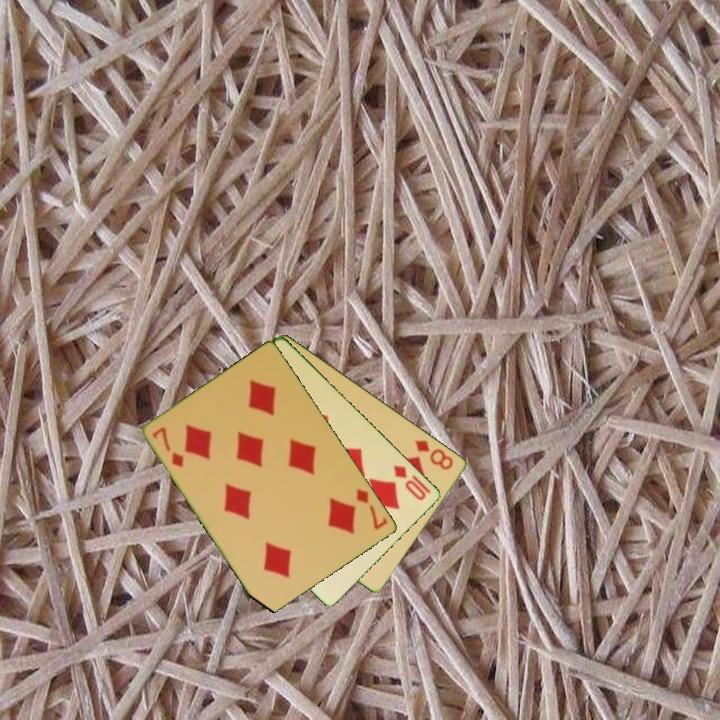10d: (390, 462, 434, 503)
7d: (353, 485, 391, 533), (149, 423, 187, 471)
8d: (412, 436, 456, 473)
